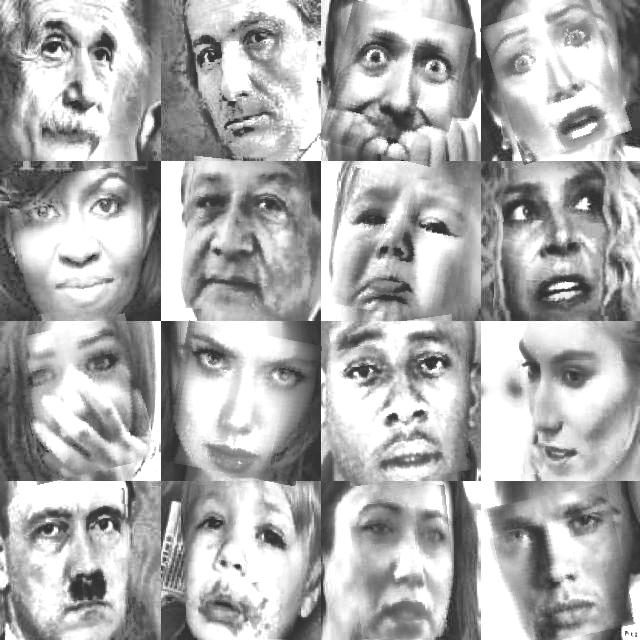fear: (168, 326, 316, 481), (11, 319, 151, 479), (327, 6, 467, 162), (489, 0, 622, 158), (495, 170, 619, 314)
neutral: (484, 488, 629, 640), (11, 169, 143, 313), (182, 158, 301, 316), (185, 3, 298, 157), (20, 490, 132, 636), (351, 486, 456, 640), (512, 328, 614, 474)
sad: (334, 318, 468, 483), (333, 172, 469, 320), (187, 485, 296, 640), (26, 7, 124, 161)
